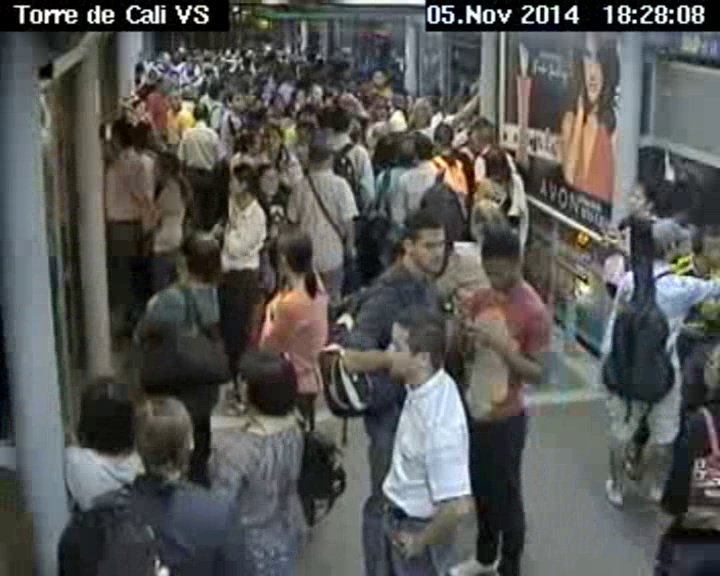person: (224, 337, 310, 433), (119, 390, 199, 478), (379, 300, 450, 385), (260, 222, 325, 290), (76, 377, 134, 448), (395, 205, 453, 276), (471, 217, 529, 287), (174, 222, 225, 291), (646, 215, 696, 264), (466, 197, 511, 239), (223, 159, 261, 206), (148, 145, 185, 186), (303, 137, 339, 176), (104, 116, 138, 154), (466, 115, 499, 154), (251, 160, 280, 201), (324, 105, 356, 138), (391, 134, 420, 170), (625, 180, 653, 215), (232, 129, 266, 155), (385, 106, 412, 135), (263, 123, 287, 152), (158, 86, 185, 111), (220, 88, 247, 113), (433, 121, 455, 148), (192, 101, 212, 130), (368, 68, 391, 88)
